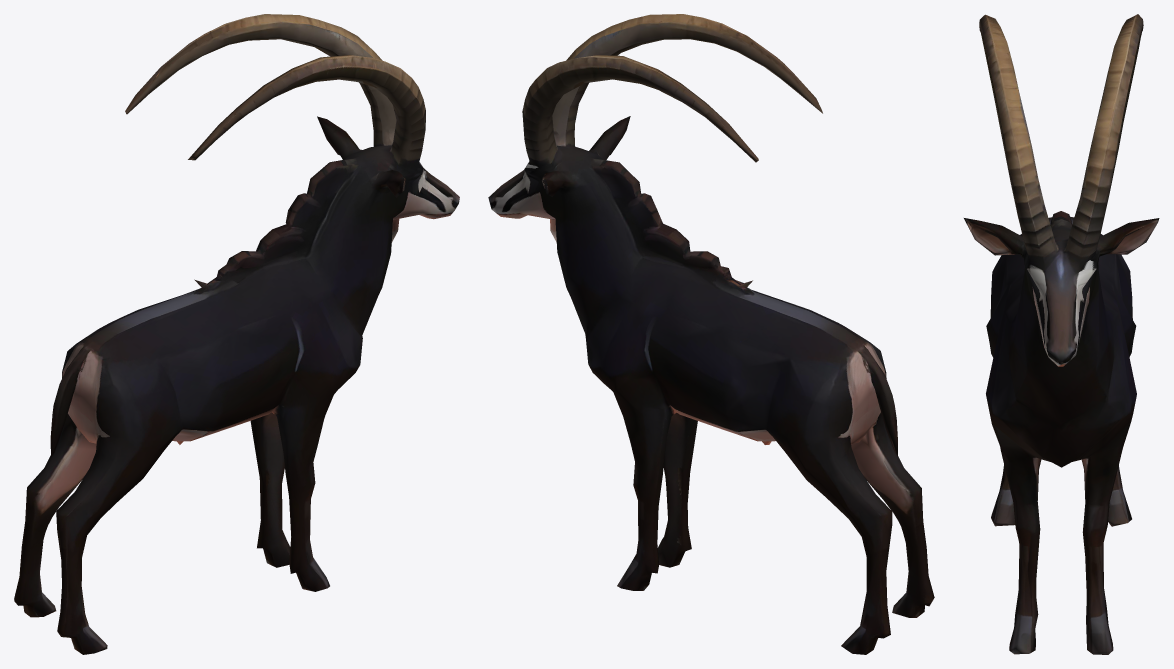
File: Sable.glb
3 views of the same model, side by side, from view 1: azimuth 30°, elevation 25°; view 2: azimuth 150°, elevation 25°; view 3: azimuth 270°, elevation 25° (orthographic). The views are drawn at different scales.
Visible parts, largest first — view 1: tripo_node_9e90b832-0270-432e-b8b1-5e416d83ce5a; view 2: tripo_node_9e90b832-0270-432e-b8b1-5e416d83ce5a; view 3: tripo_node_9e90b832-0270-432e-b8b1-5e416d83ce5a.
Part boxes in pixels (x1=…): tripo_node_9e90b832-0270-432e-b8b1-5e416d83ce5a: x1=14, y1=14, x2=459, y2=654; tripo_node_9e90b832-0270-432e-b8b1-5e416d83ce5a: x1=488, y1=14, x2=934, y2=654; tripo_node_9e90b832-0270-432e-b8b1-5e416d83ce5a: x1=964, y1=14, x2=1159, y2=654.
Bounding box in the file's own units: 0.8208 × 1 × 0.2918.
1 material, 1 textured.
